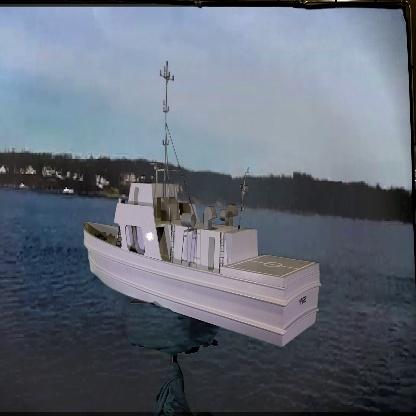YP689: (84, 66, 321, 350)
